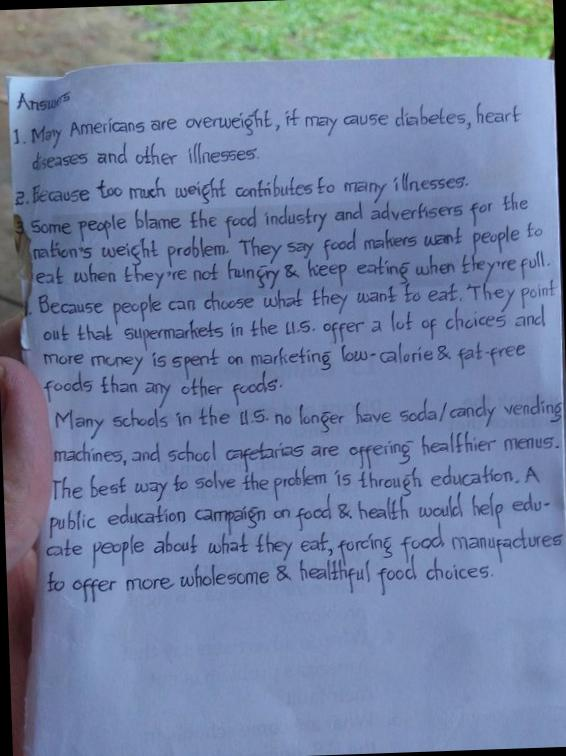text: (43, 510, 566, 582), (46, 481, 554, 544), (12, 186, 533, 247), (50, 422, 561, 484), (32, 244, 550, 302), (29, 216, 546, 274), (8, 95, 524, 153), (50, 387, 563, 445), (40, 300, 549, 358), (49, 454, 544, 513), (44, 548, 496, 612), (34, 274, 558, 328), (41, 333, 528, 388), (13, 164, 472, 220), (44, 360, 287, 416), (28, 134, 262, 176), (14, 89, 74, 114)
